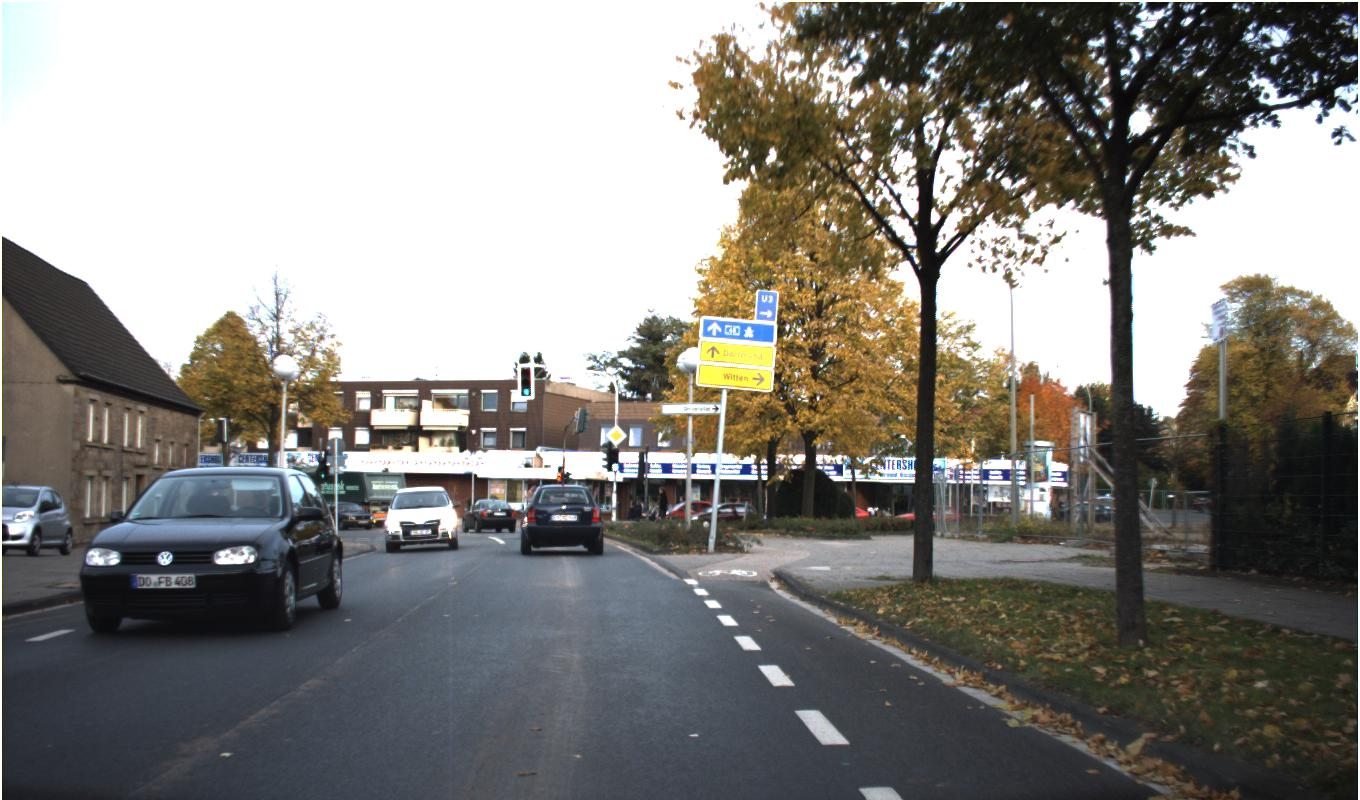sign: (605, 424, 627, 447)
